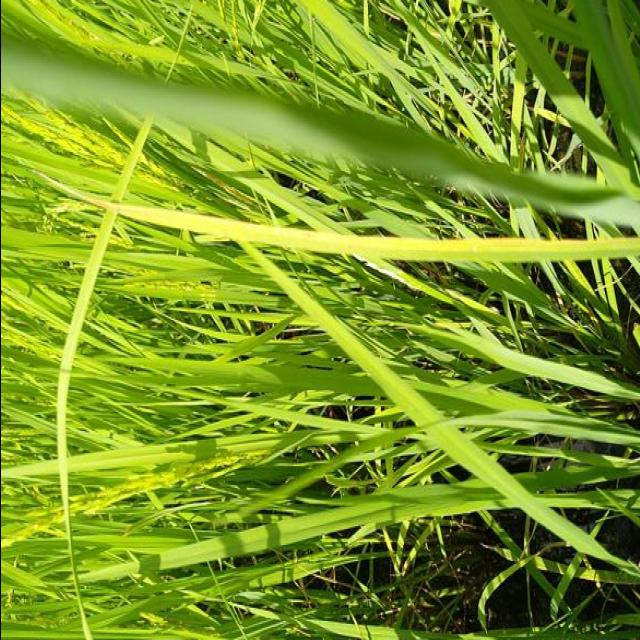Leaf Blight: (99, 205, 607, 263)
